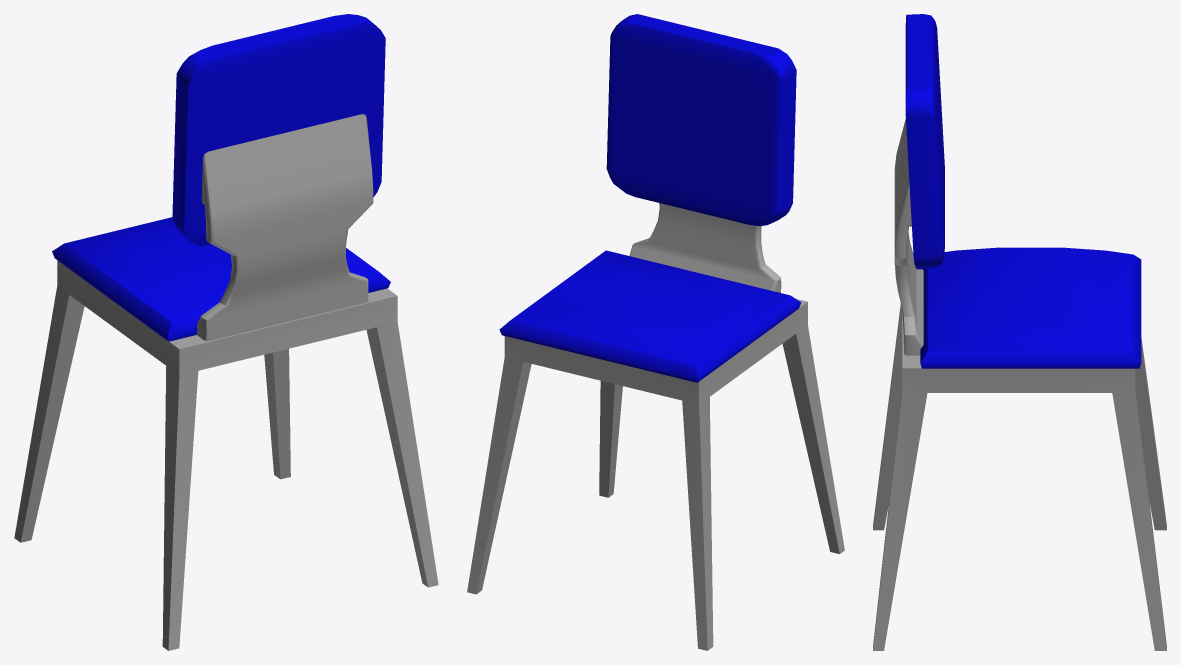
Rendered from 9_CHAIR3.fbx.
3 renders of one model, left to right at view 1: azimuth 30°, elevation 25°; view 2: azimuth 150°, elevation 25°; view 3: azimuth 270°, elevation 25°, orthographic. The views are drawn at different scales.
Parts seen in each view (by area): view 1: legs2, foam2; view 2: foam2, legs2; view 3: foam2, legs2.
Part boxes in pixels (x1=…): legs2: x1=14, y1=114, x2=438, y2=650; foam2: x1=52, y1=14, x2=390, y2=341; foam2: x1=499, y1=14, x2=801, y2=382; legs2: x1=467, y1=203, x2=844, y2=650; foam2: x1=905, y1=14, x2=1141, y2=368; legs2: x1=873, y1=118, x2=1166, y2=650.
Bounding box in the file's own units: 1.65 × 3.29 × 1.63.
